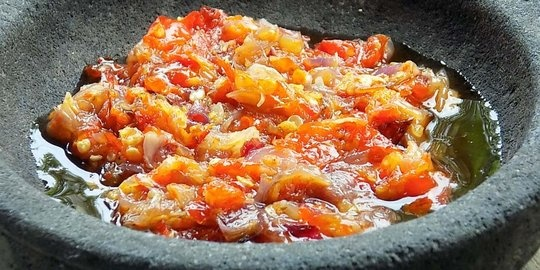sambal: (44, 7, 453, 241)
